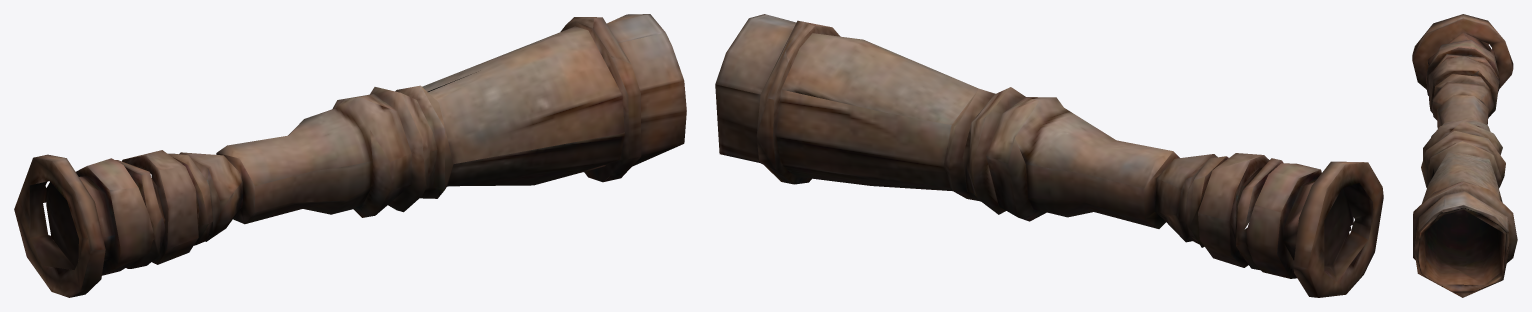
The model's file is ceiling_pipe.glb.
The picture shows the model from 3 angles, left to right: view 1: azimuth 30°, elevation 25°; view 2: azimuth 150°, elevation 25°; view 3: azimuth 270°, elevation 25°; orthographic projection. The views are drawn at different scales.
Visible parts, largest first — view 1: ceiling_pipe; view 2: ceiling_pipe; view 3: ceiling_pipe.
Part boxes in pixels (x1,y1,x2,y2): ceiling_pipe: (14, 14, 686, 297); ceiling_pipe: (715, 14, 1383, 297); ceiling_pipe: (1412, 14, 1517, 297).
Size of the model in its own units: 0.9995 by 0.2548 by 0.2314.
1 material, 1 textured.
